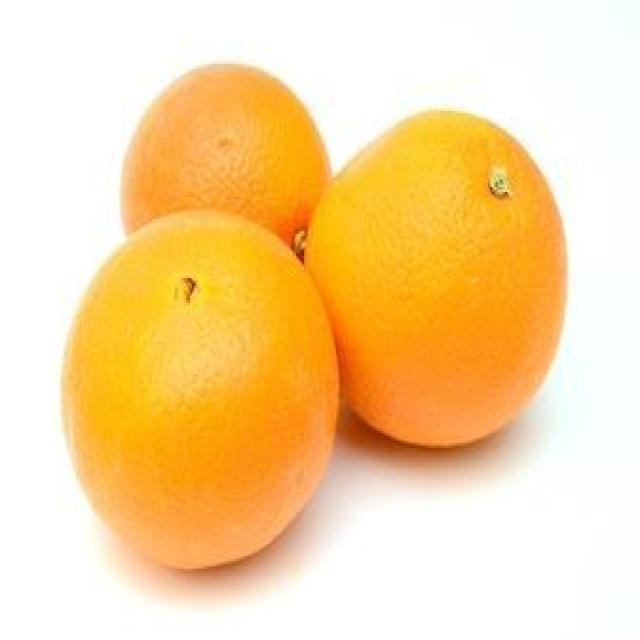orange: (62, 207, 344, 576), (327, 104, 570, 451)
